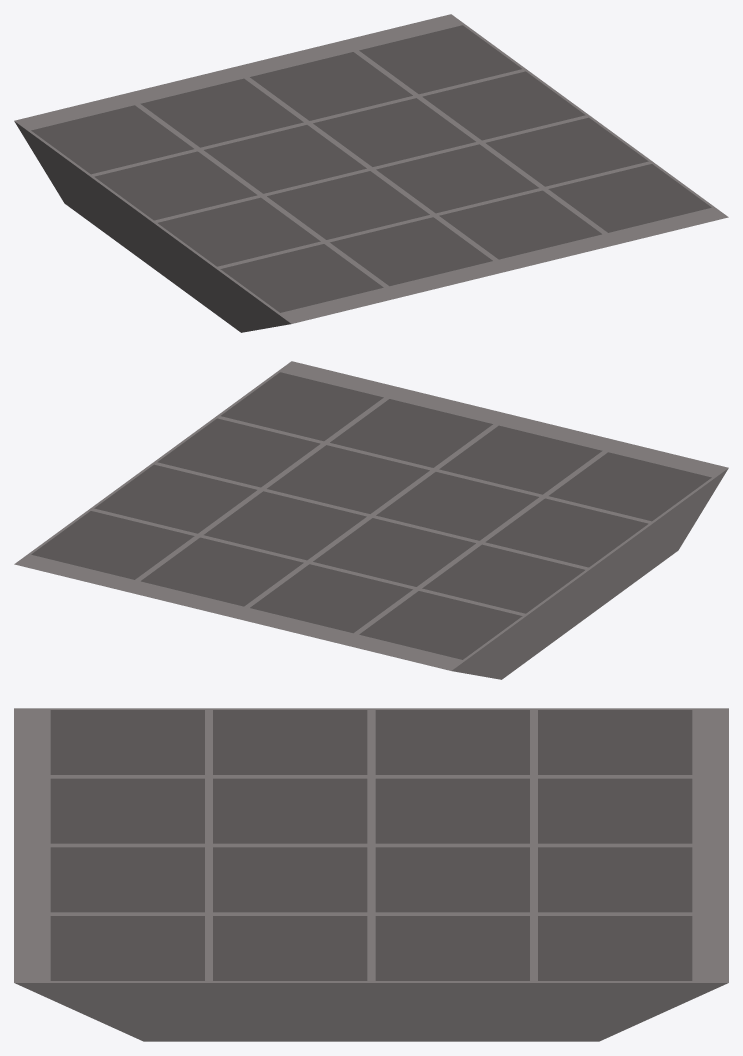
The model's file is scifi-floor-corridor.glb.
3 views of the same model, one above another, from view 1: azimuth 30°, elevation 25°; view 2: azimuth 150°, elevation 25°; view 3: azimuth 270°, elevation 25° (orthographic). The views are drawn at different scales.
Visible parts, largest first — view 1: scifi-floor-corridor; view 2: scifi-floor-corridor; view 3: scifi-floor-corridor.
Part boxes in pixels (x1,y1,x2,y2): scifi-floor-corridor: (14,14,728,332); scifi-floor-corridor: (14,361,728,679); scifi-floor-corridor: (14,708,728,1041).
Size of the model in its own units: 4 by 0.4 by 4.4.
Materials: 1 (1 with a texture image).
